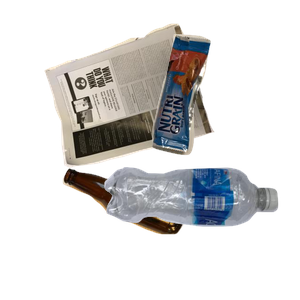glass: (60, 166, 241, 300)
paper: (42, 21, 249, 181)
plastic: (102, 165, 300, 300)
trash: (149, 31, 300, 179)
